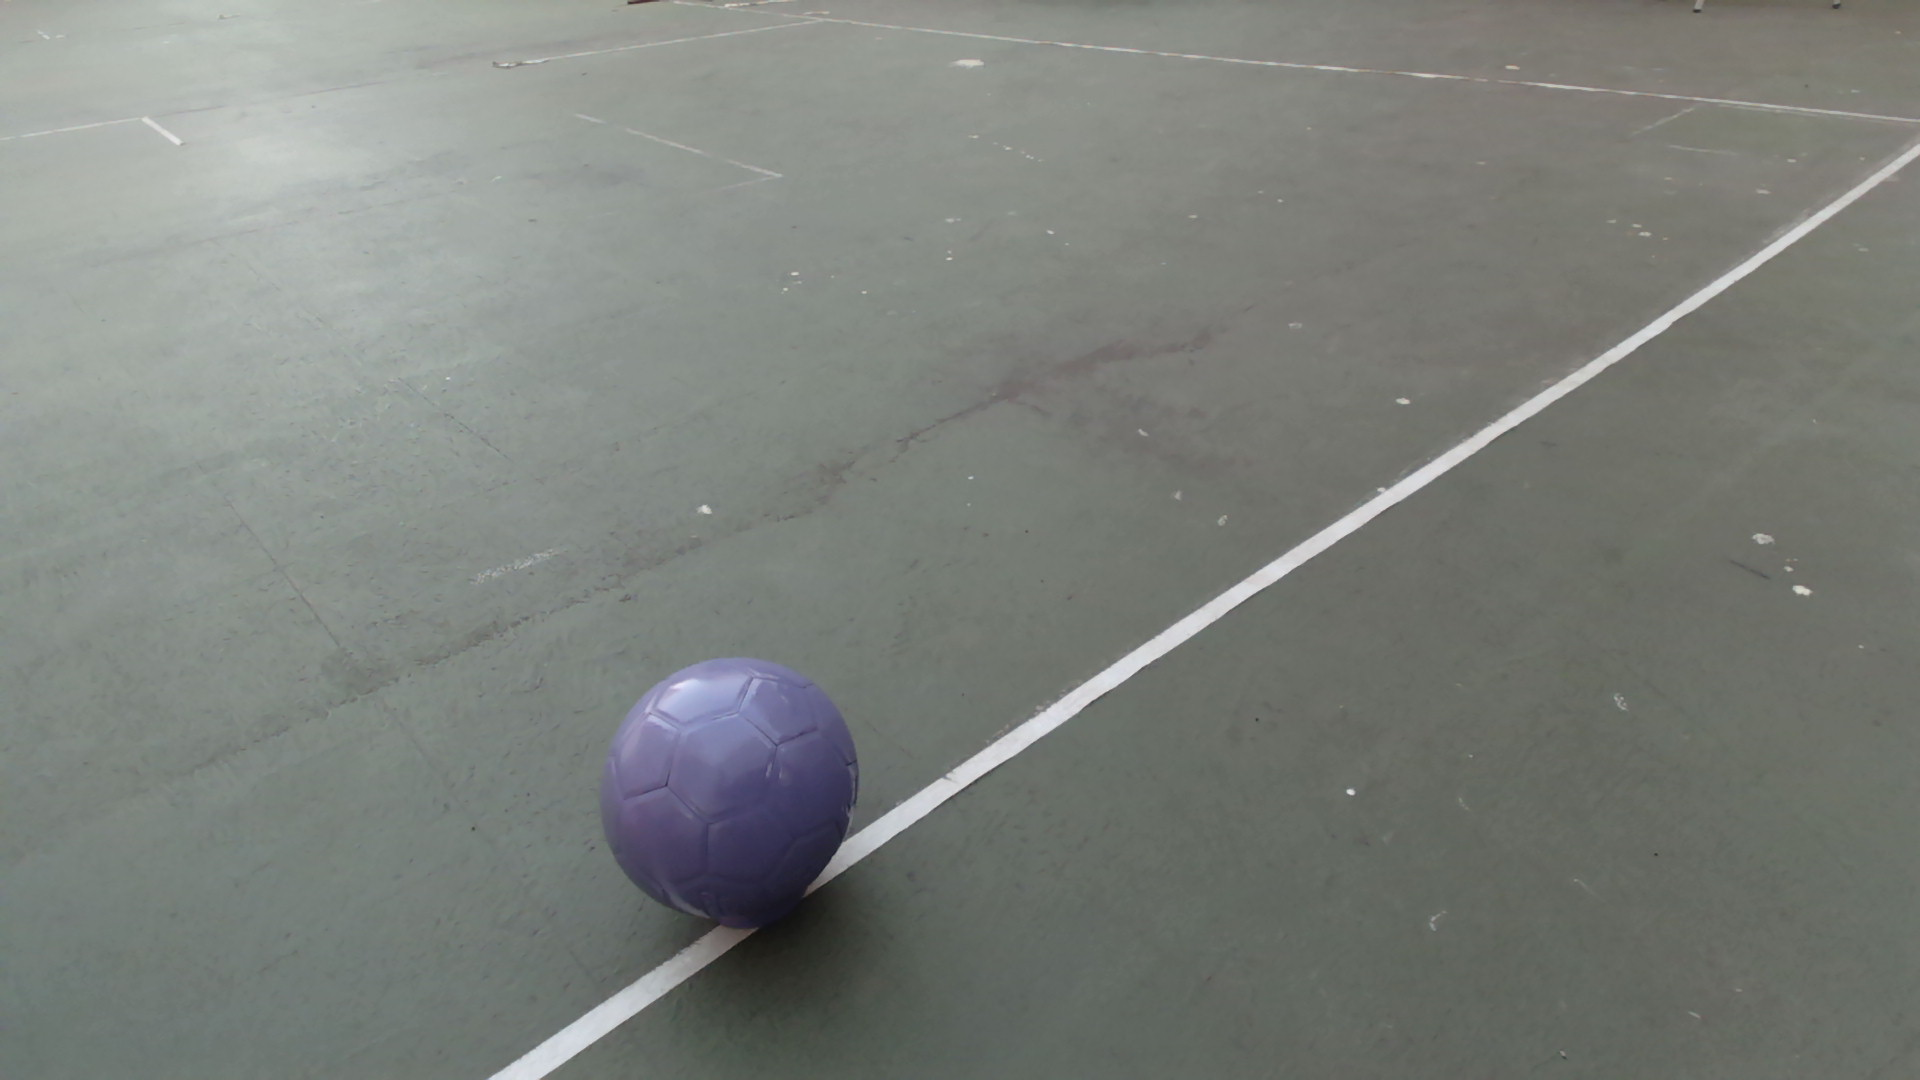Purple ball: (597, 655, 862, 932)
